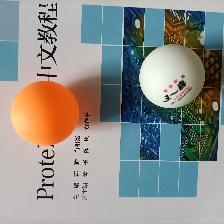WhiteBall: (139, 43, 205, 108)
YellowBall: (10, 80, 79, 145)
